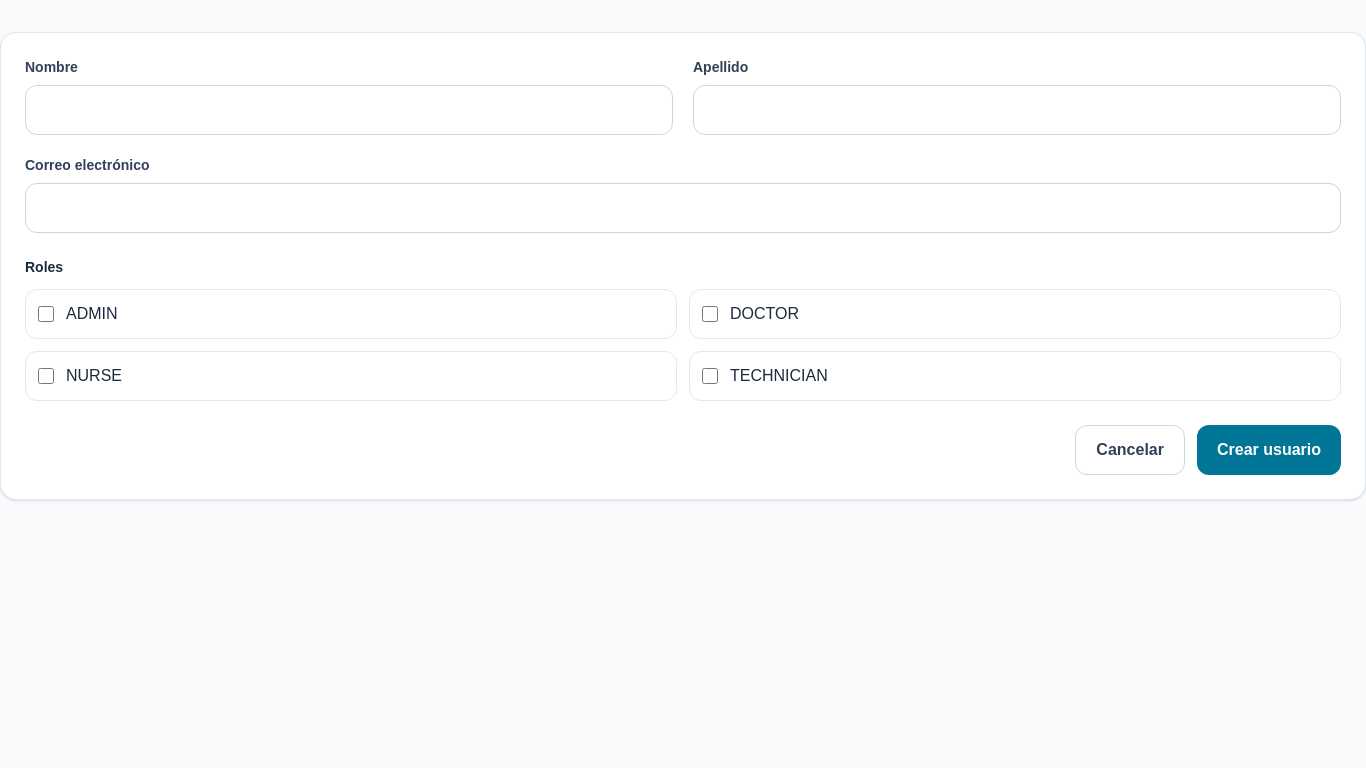
Test case: NewUserForm › crea el usuario y mantiene la contraseña sólo en memoria
In the field labelled "Correo electrónico": (683,208) [25,183,1341,233], type "doctor@hospital.com"
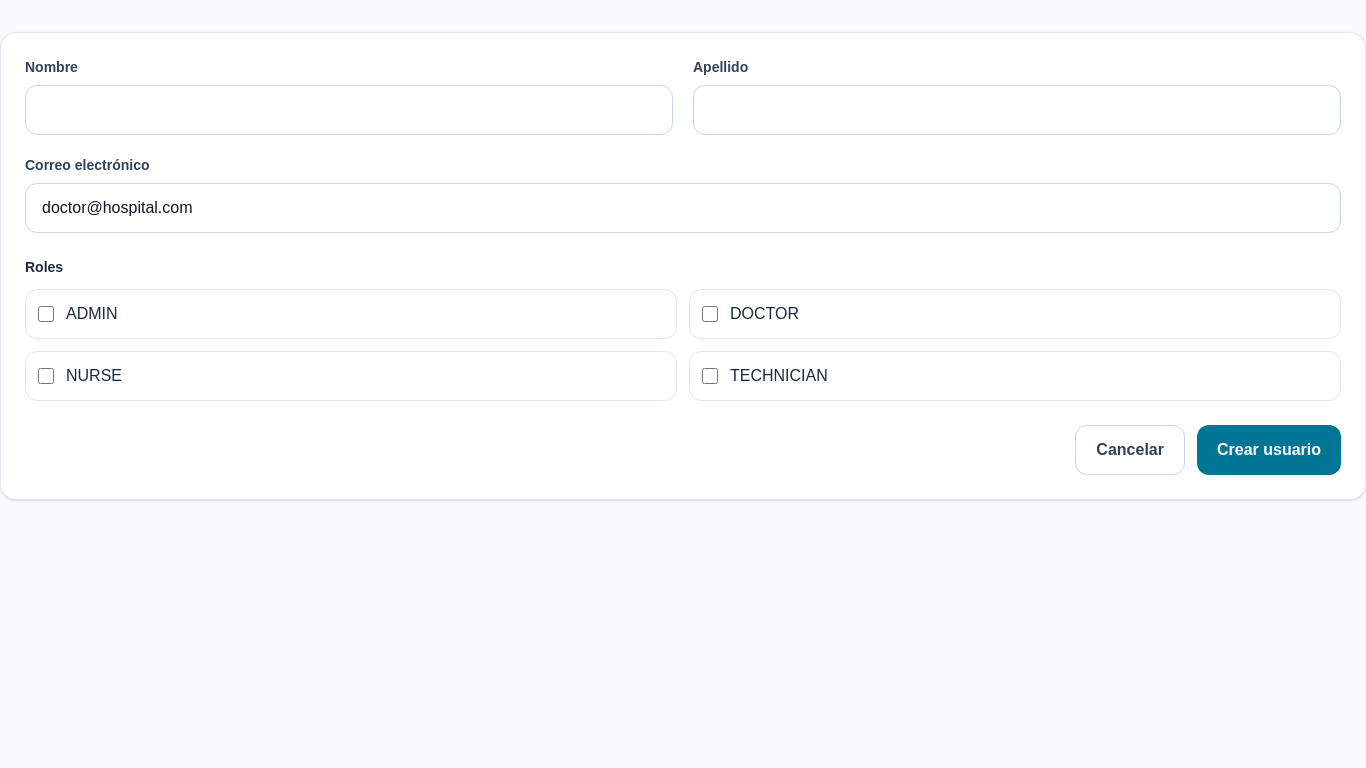
In the field labelled "Nombre": (349,110) [25,85,673,135], type "Juan"
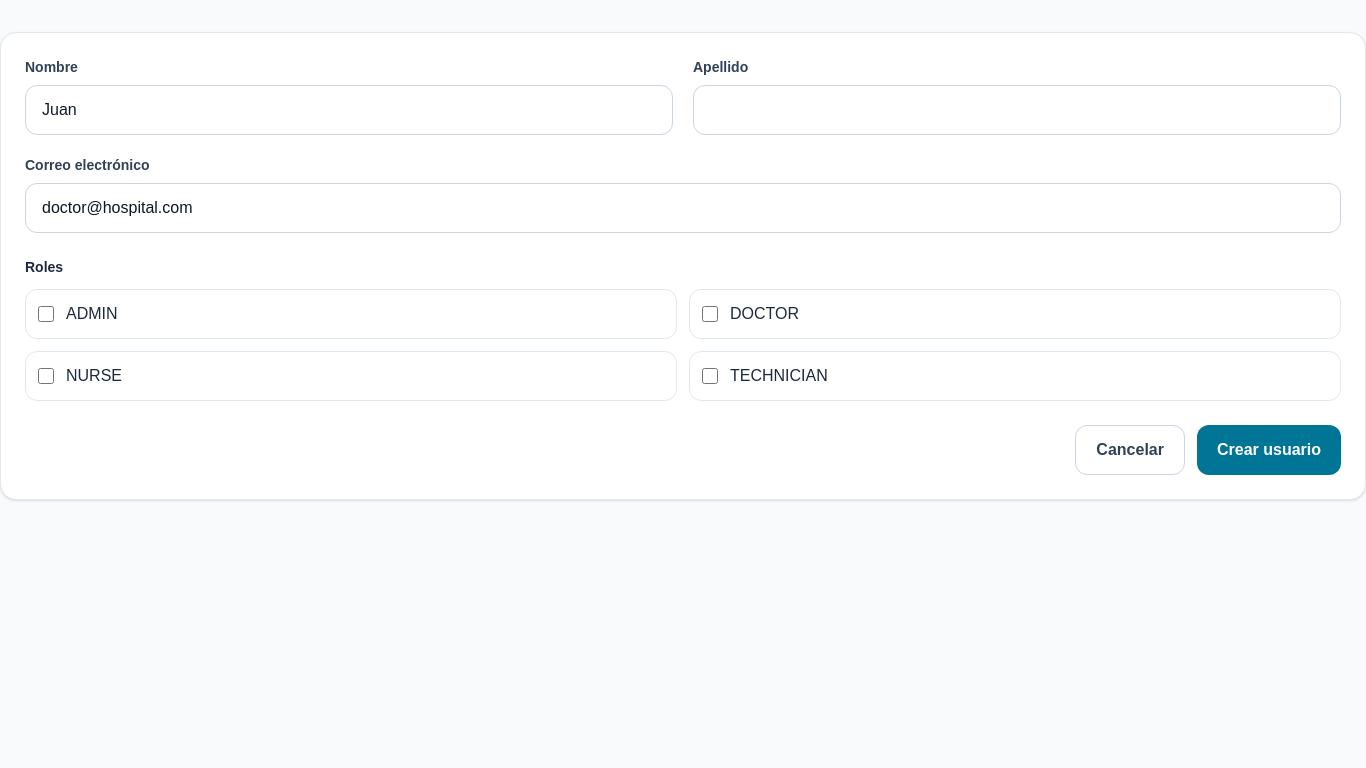
In the field labelled "Apellido": (1017,110) [693,85,1341,135], type "Pérez"
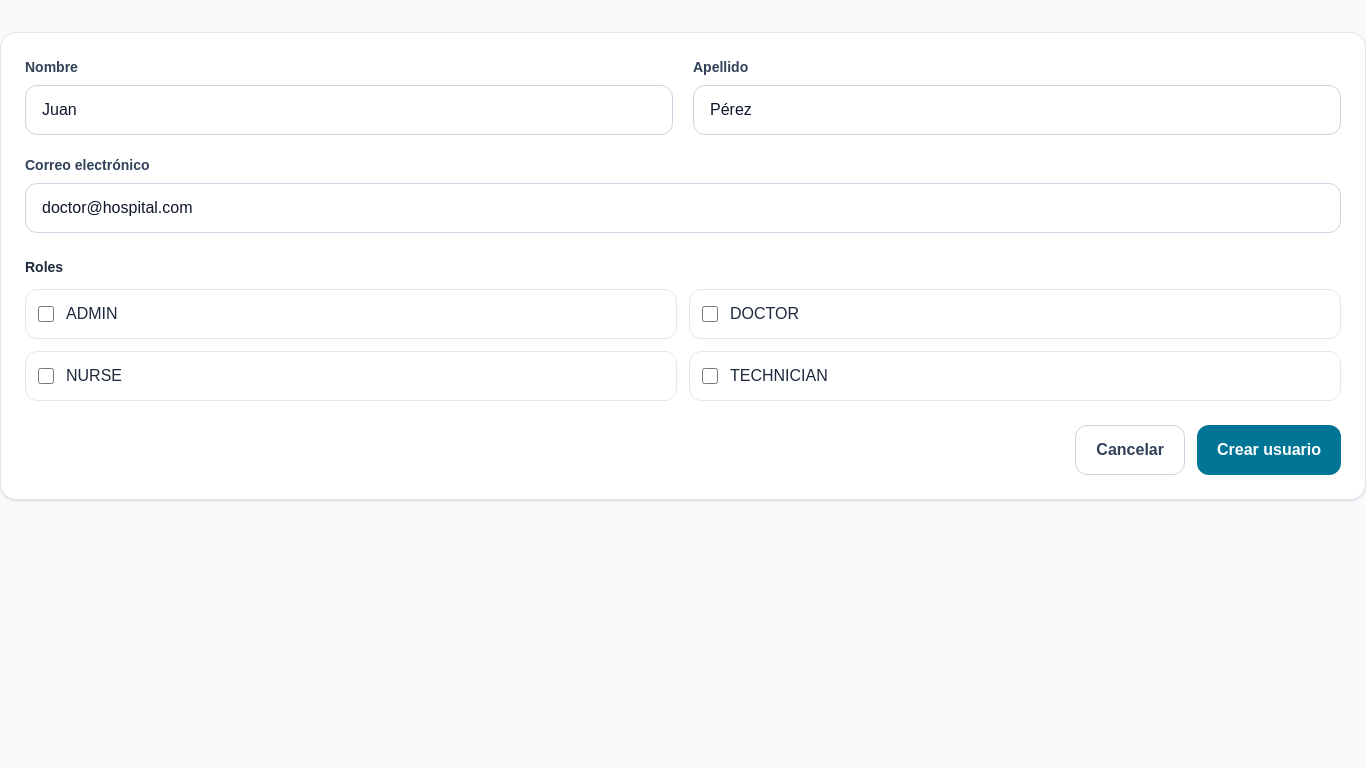
Click the checkbox labelled "DOCTOR": (710,314) [702,306,718,322]
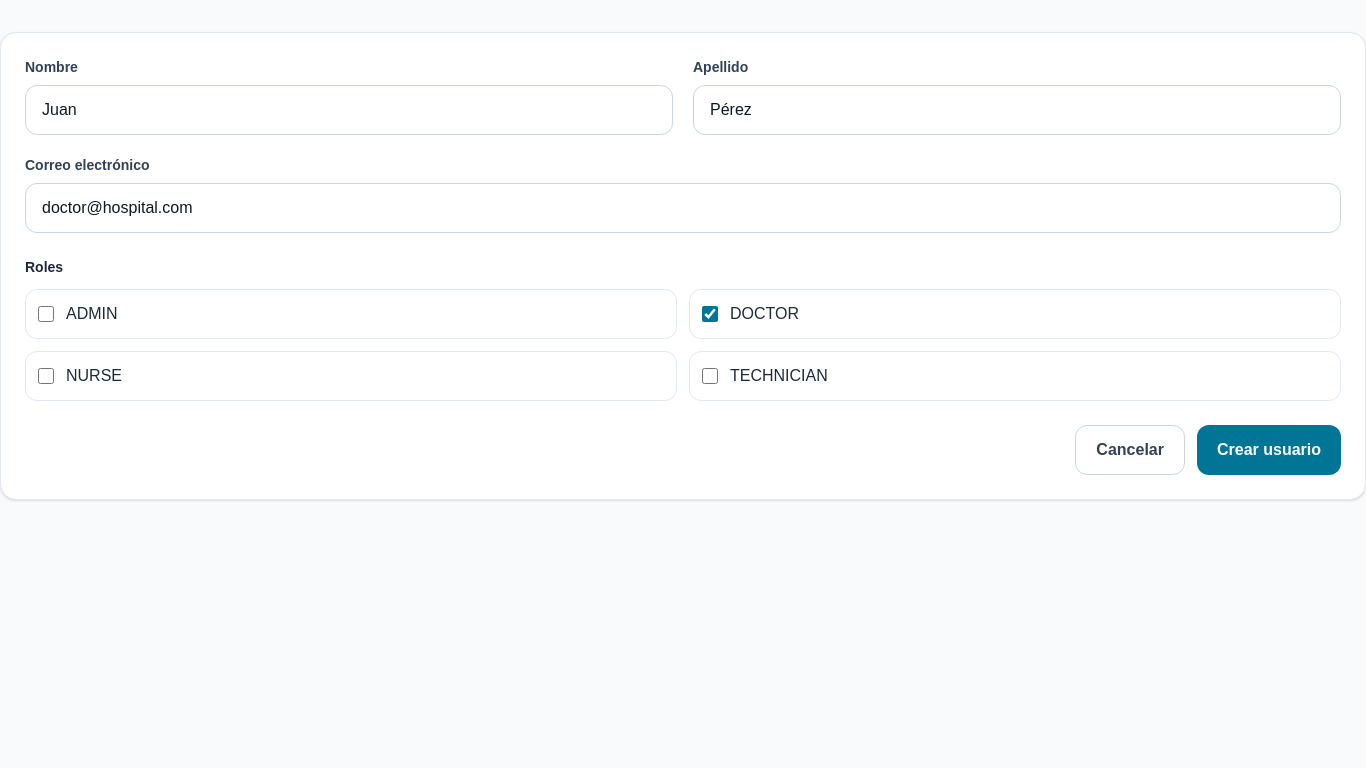
Click the button "Crear usuario": (1269,450) [1197,425,1341,475]
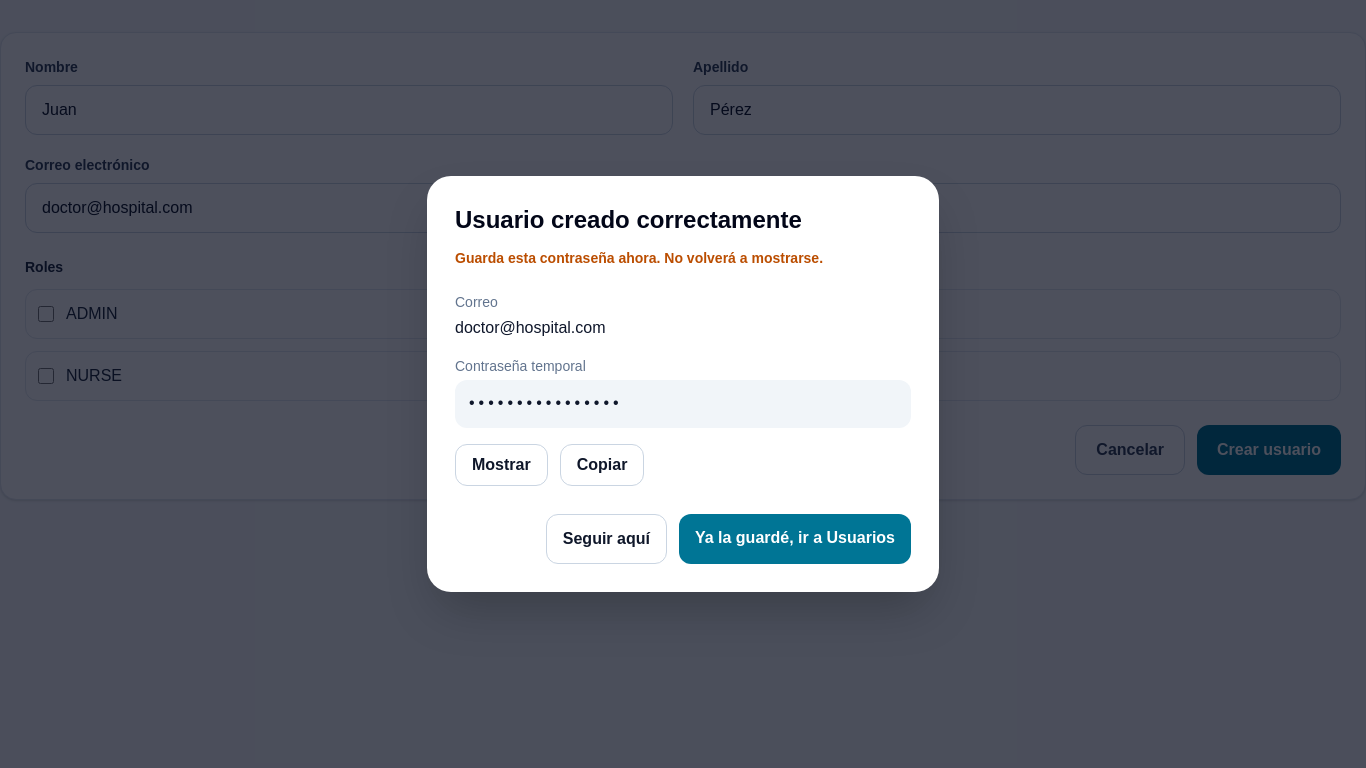
Now the dialog shows "Usuario creado correctamente", box [455,206,802,233]
Now the text "••••••••••••••••" is shown, box [455,380,911,428]
Click the button "Mostrar": (501,465) [455,444,548,486]
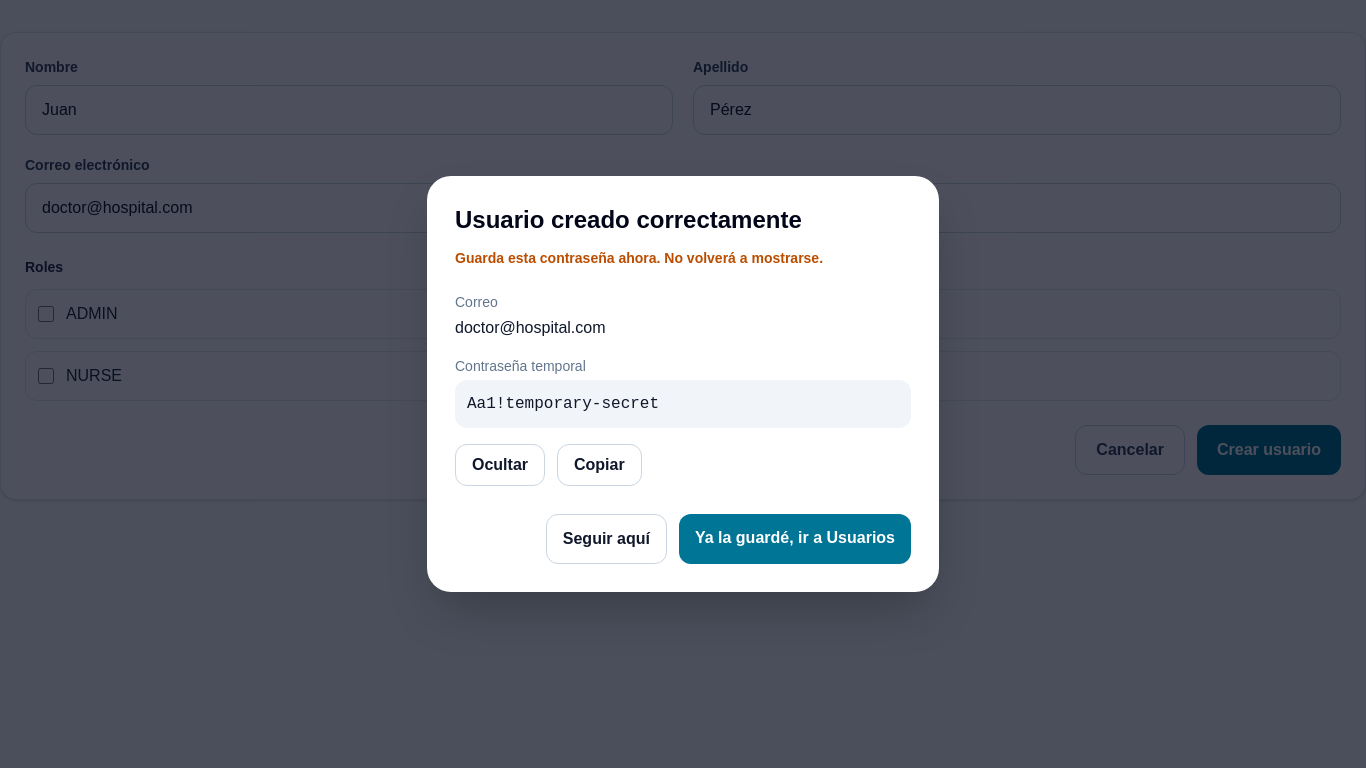
Now the text "Aa1!temporary-secret" is shown, box [455,380,911,428]
